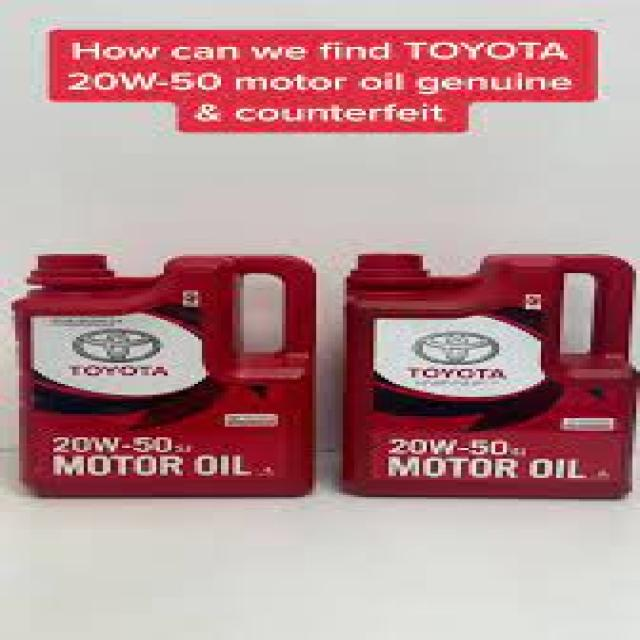motor_oil: (8, 246, 336, 505), (347, 247, 640, 501)
